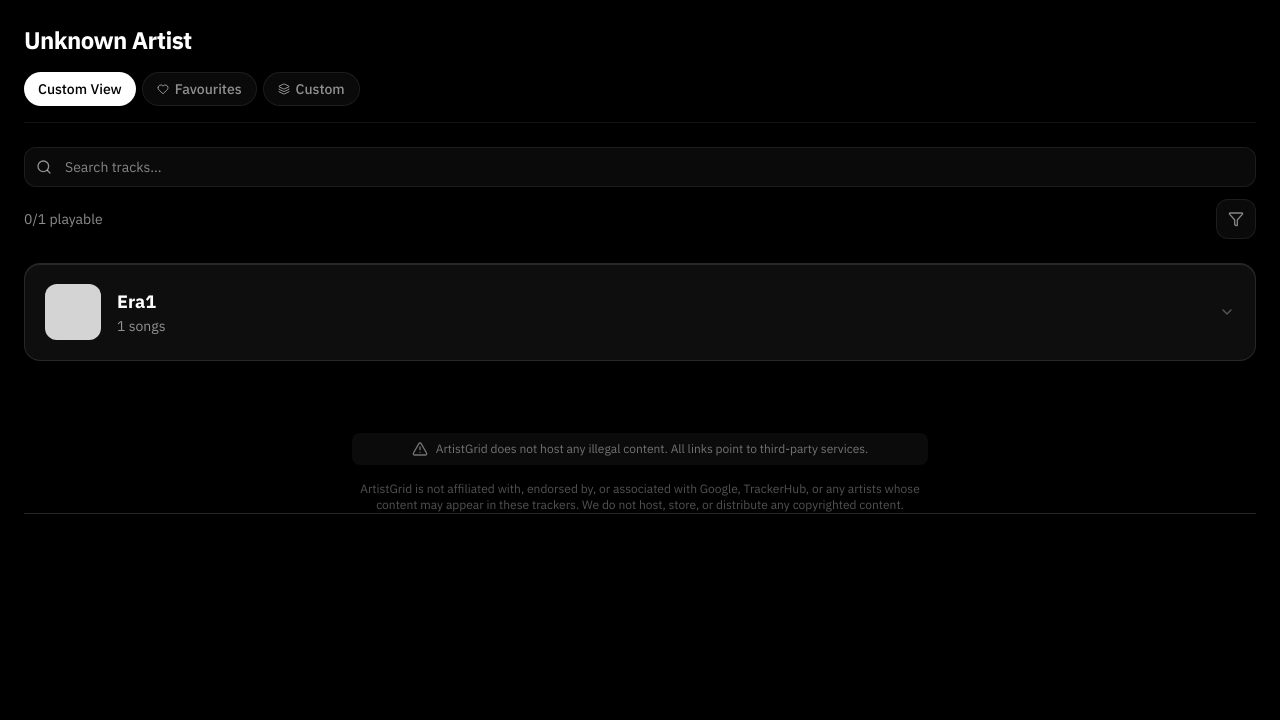
Test: TrackerViewPage › filters tracks by the search query
Click the heading "Era1" at {"x": 136, "y": 302}, box [117,290,156,313]
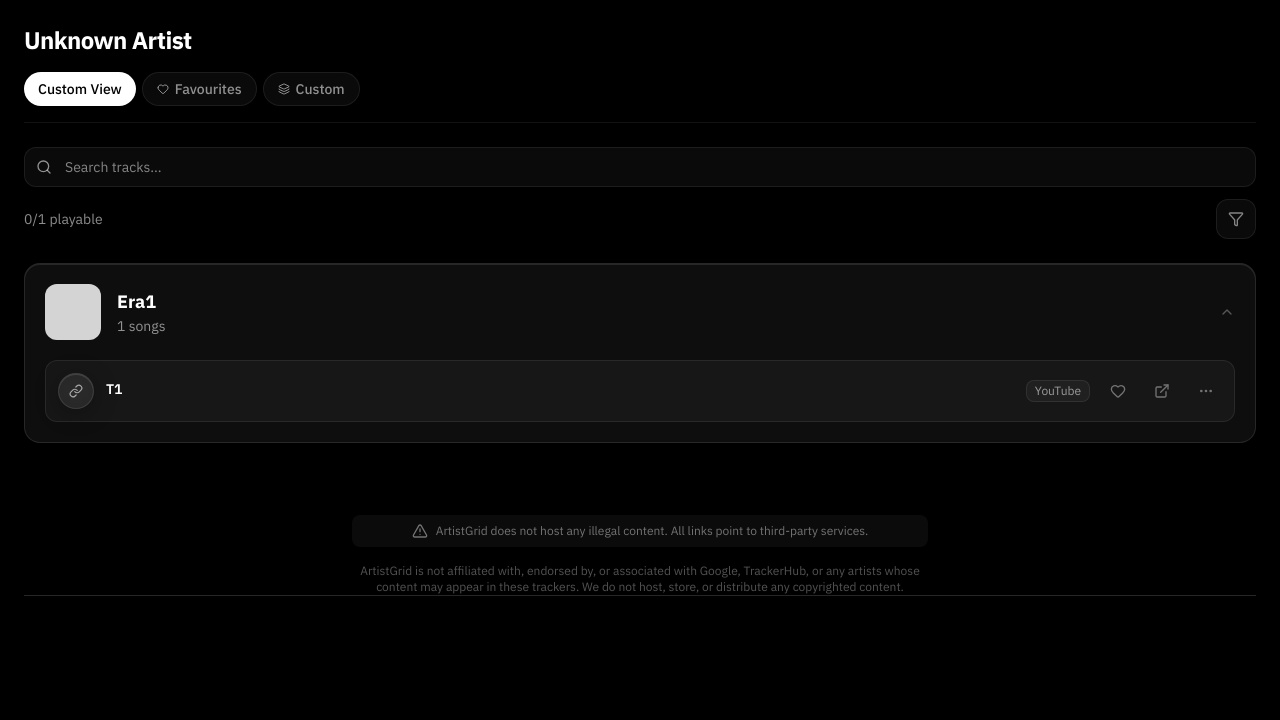
Check: the text "T1" is shown, box [106,380,122,398]
Type "zzzznotfound" into the field with placeholder "Search tracks..." at {"x": 640, "y": 167}, box [24,147,1256,187]
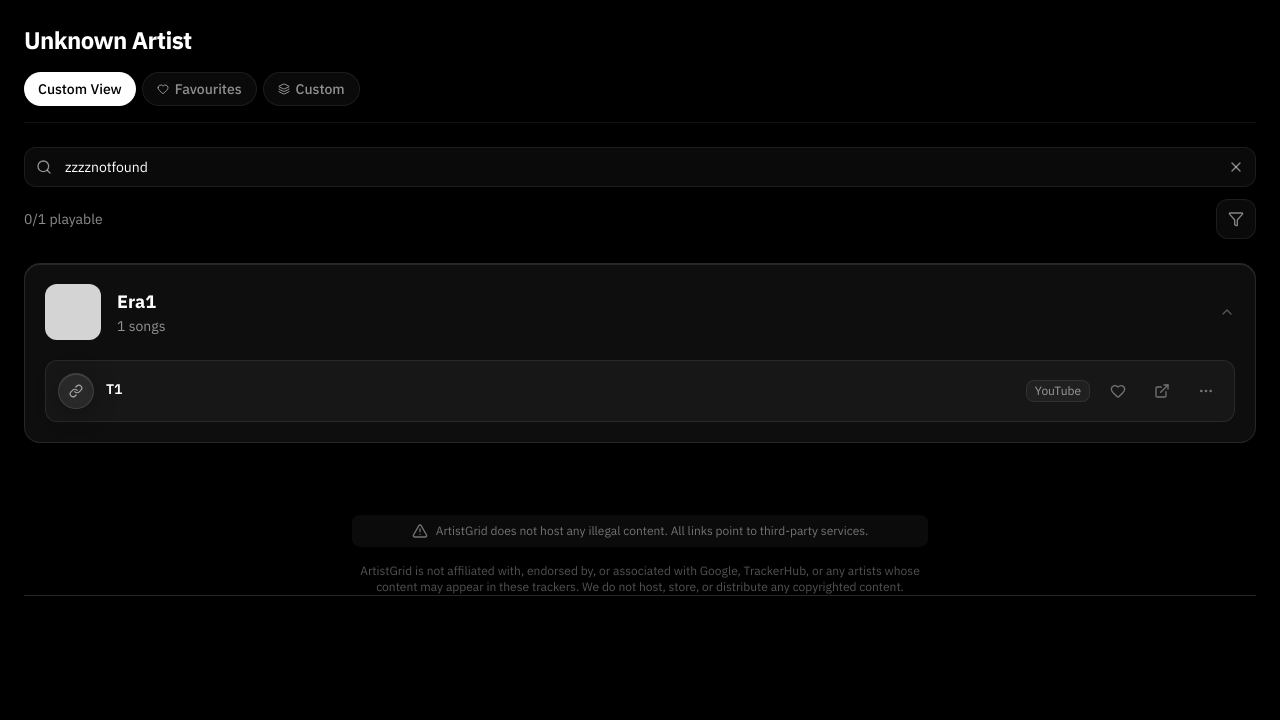
Replace the text in the field with placeholder "Search tracks..." with "T1" at {"x": 640, "y": 167}, box [24,147,1256,187]
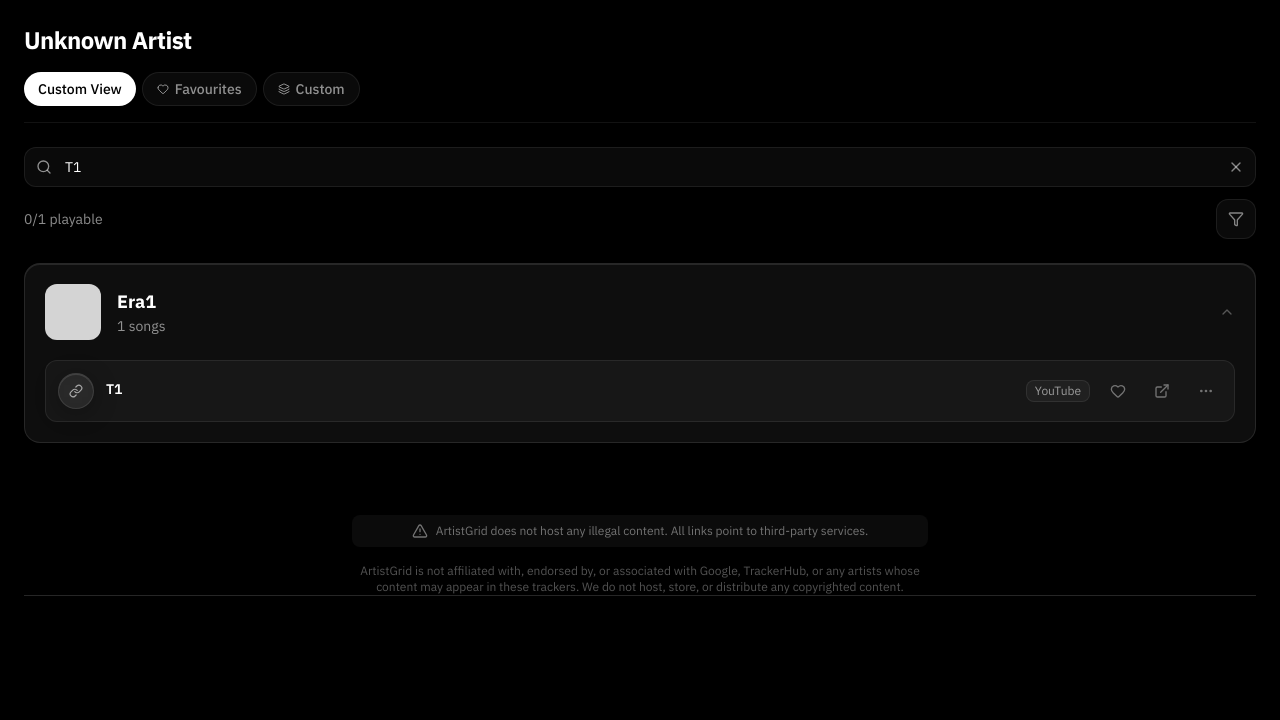
Check: the button named "Clear search" is shown
Click the button named "Clear search" at {"x": 1236, "y": 167}, box [1228,159,1244,175]
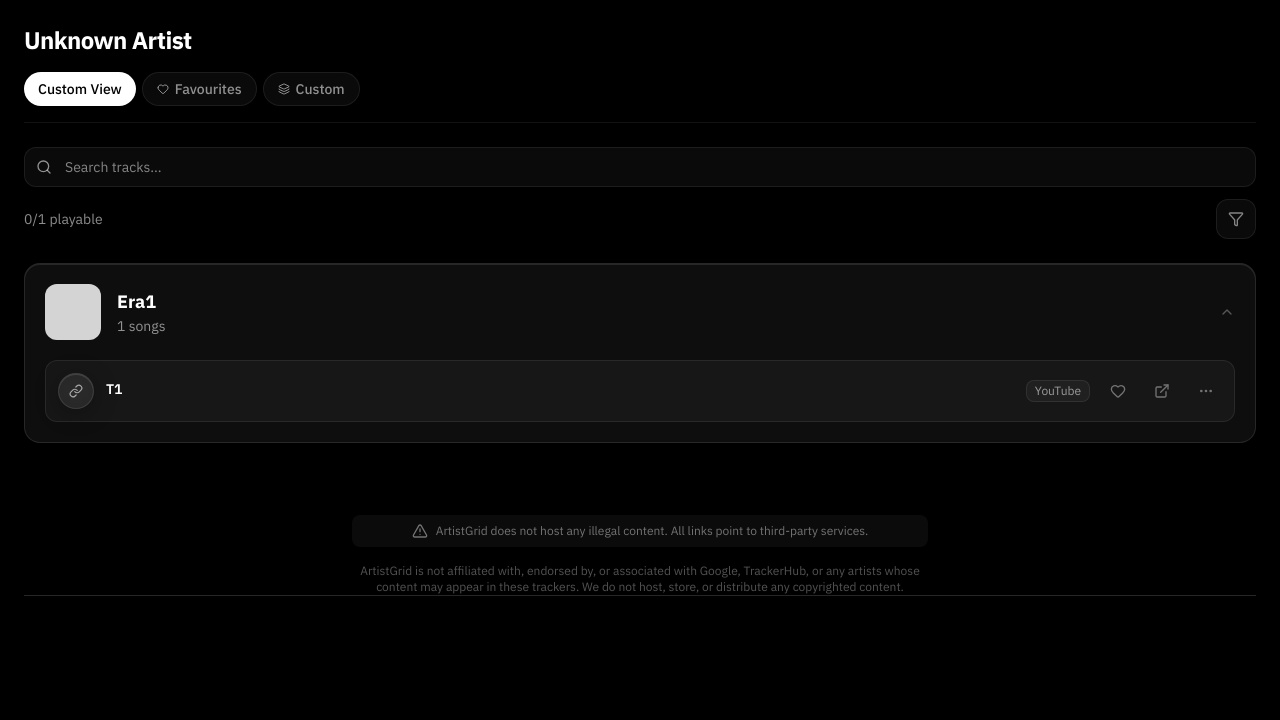
Check: the field with placeholder "Search tracks..." is empty, box [24,147,1256,187]
